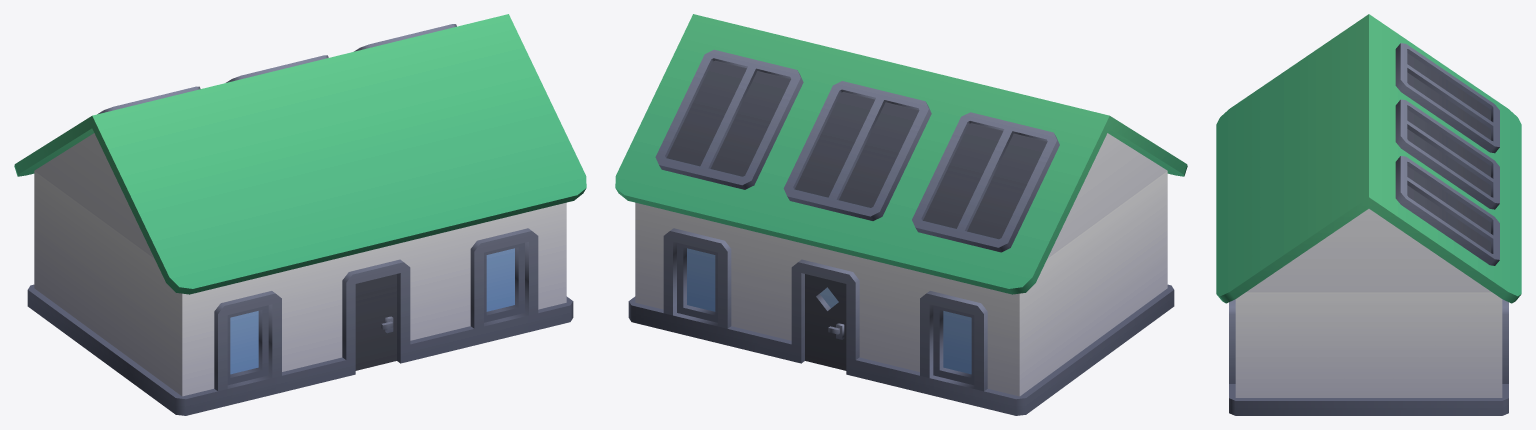
Rendered from u-building-type-h.glb.
3 views of the same model, side by side, from view 1: azimuth 30°, elevation 25°; view 2: azimuth 150°, elevation 25°; view 3: azimuth 270°, elevation 25° (orthographic). The views are drawn at different scales.
Parts seen in each view (by area): view 1: building-type-h; view 2: building-type-h; view 3: building-type-h.
Part boxes in pixels (x1=…): building-type-h: x1=14, y1=14, x2=586, y2=415; building-type-h: x1=615, y1=14, x2=1187, y2=415; building-type-h: x1=1216, y1=14, x2=1521, y2=415.
Bounding box in the file's own units: 1.3 × 0.7375 × 0.9161.
1 material, 1 textured.
